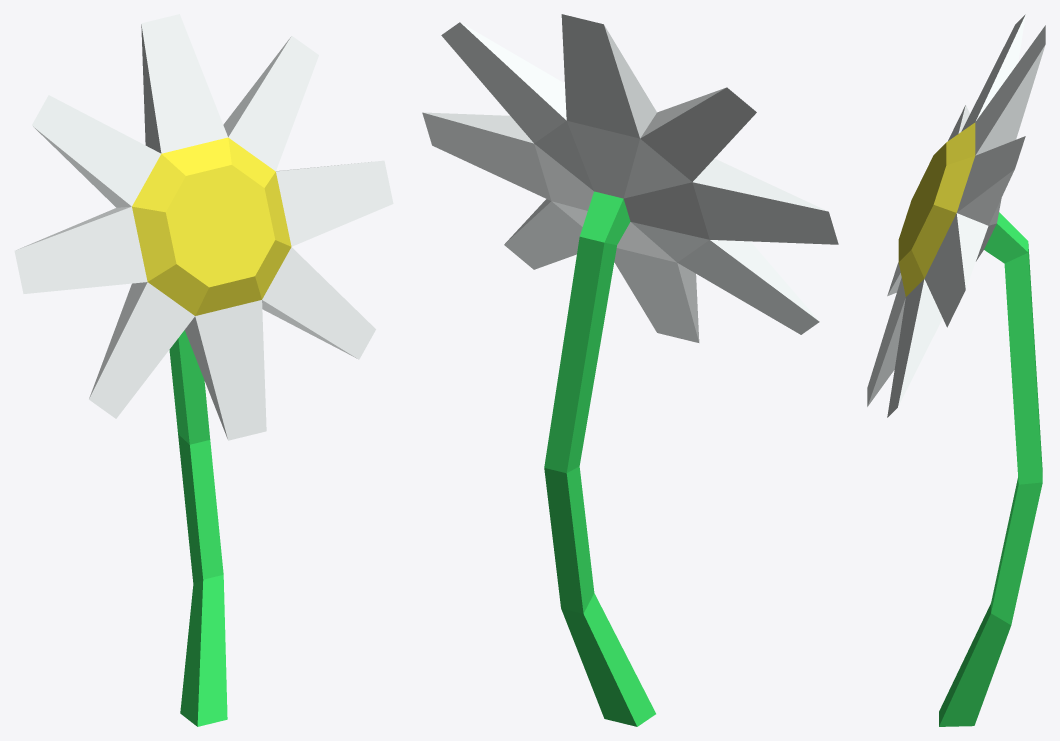
The model's file is Flor_1.fbx.
The picture shows the model from 3 angles, left to right: view 1: azimuth 30°, elevation 25°; view 2: azimuth 150°, elevation 25°; view 3: azimuth 270°, elevation 25°; orthographic projection. The views are drawn at different scales.
Visible parts, largest first — view 1: Flor_1; view 2: Flor_1; view 3: Flor_1.
Boxes of the visible parts, box(x1,y1,x2,y2) form: Flor_1: box(14, 14, 393, 726); Flor_1: box(422, 14, 838, 726); Flor_1: box(867, 14, 1045, 726).
Size of the model in its own units: 0.2676 by 0.4607 by 0.1088.
